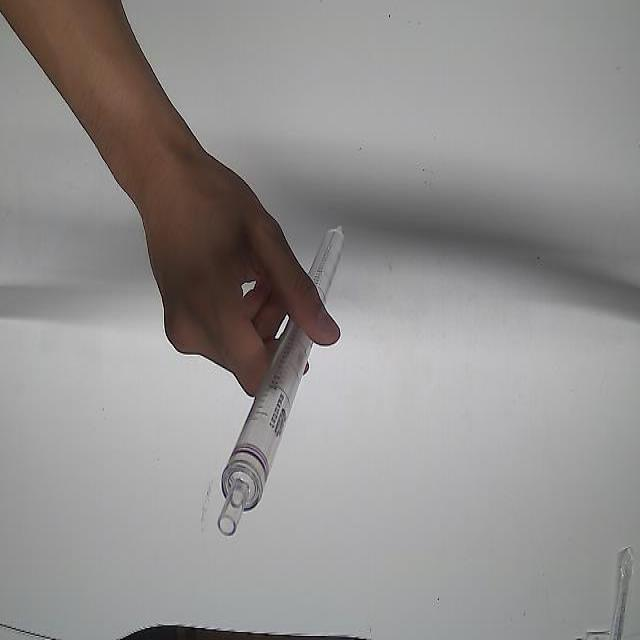Serelogical Pipet 50 mL: (211, 219, 351, 541)
